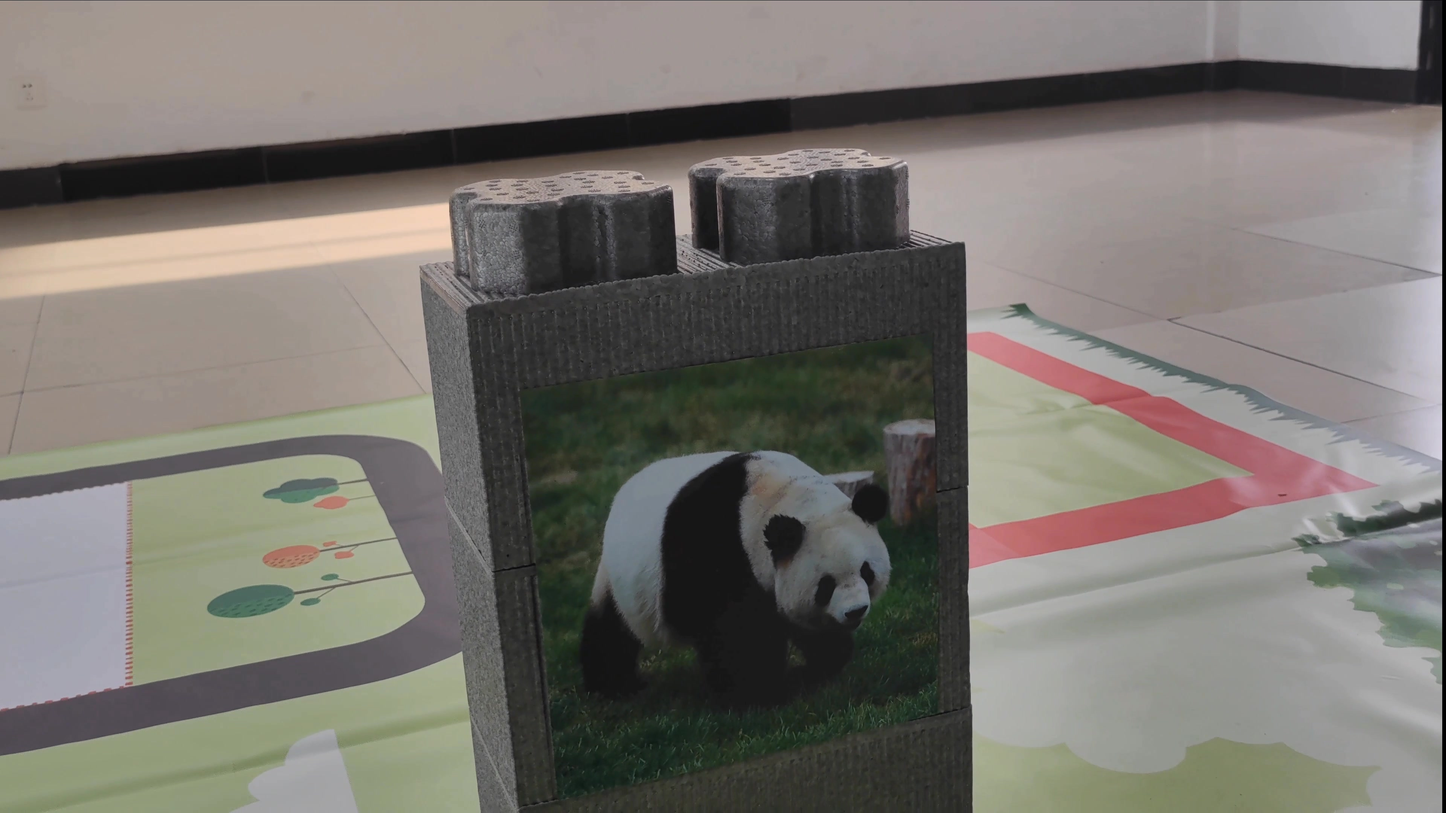panda: (540, 375, 905, 706)
